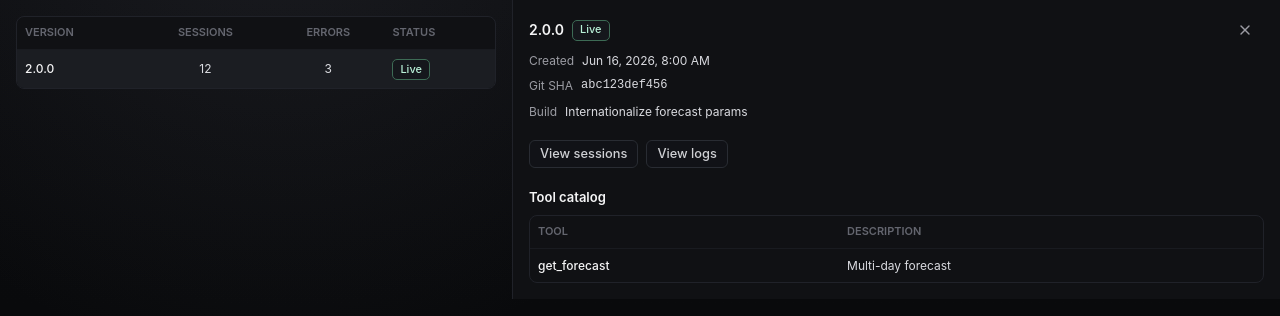
DeploymentsTable › closes deployment detail from the header close button
expect the heading "Tool catalog" is shown: met, box [529,189,606,205]
Click the button with test id "detail-close-button". click: coordinates (1245, 30)
box: [1226,16,1264,44]
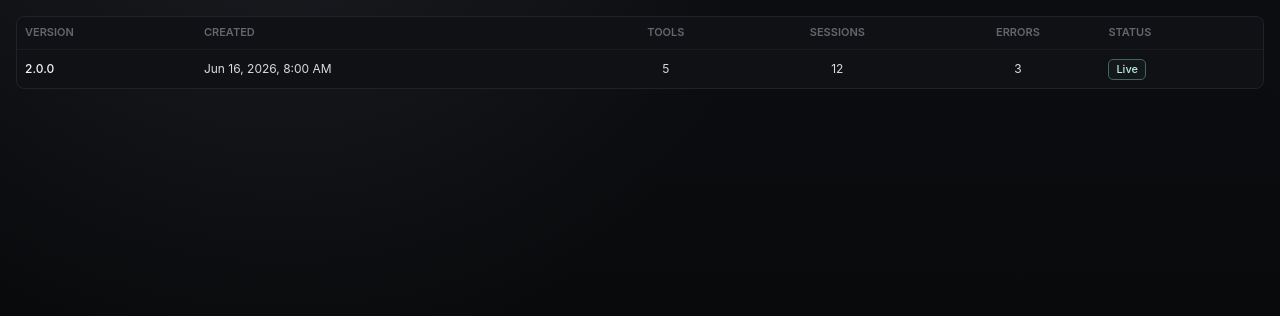
expect the column heading "Created" is shown: met, box [196,17,592,49]
expect the heading "Tool catalog" is gone: met
